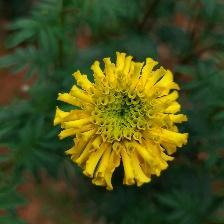marigold: (54, 51, 190, 191)
